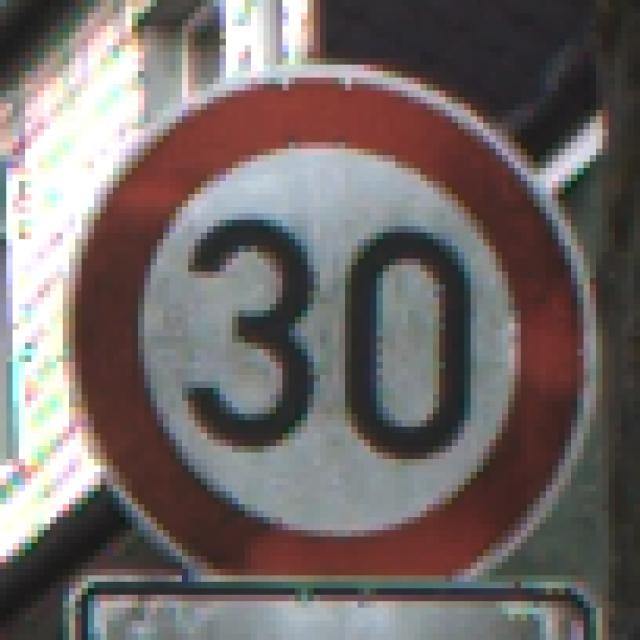Speed Limit -30-: (53, 58, 580, 576)
